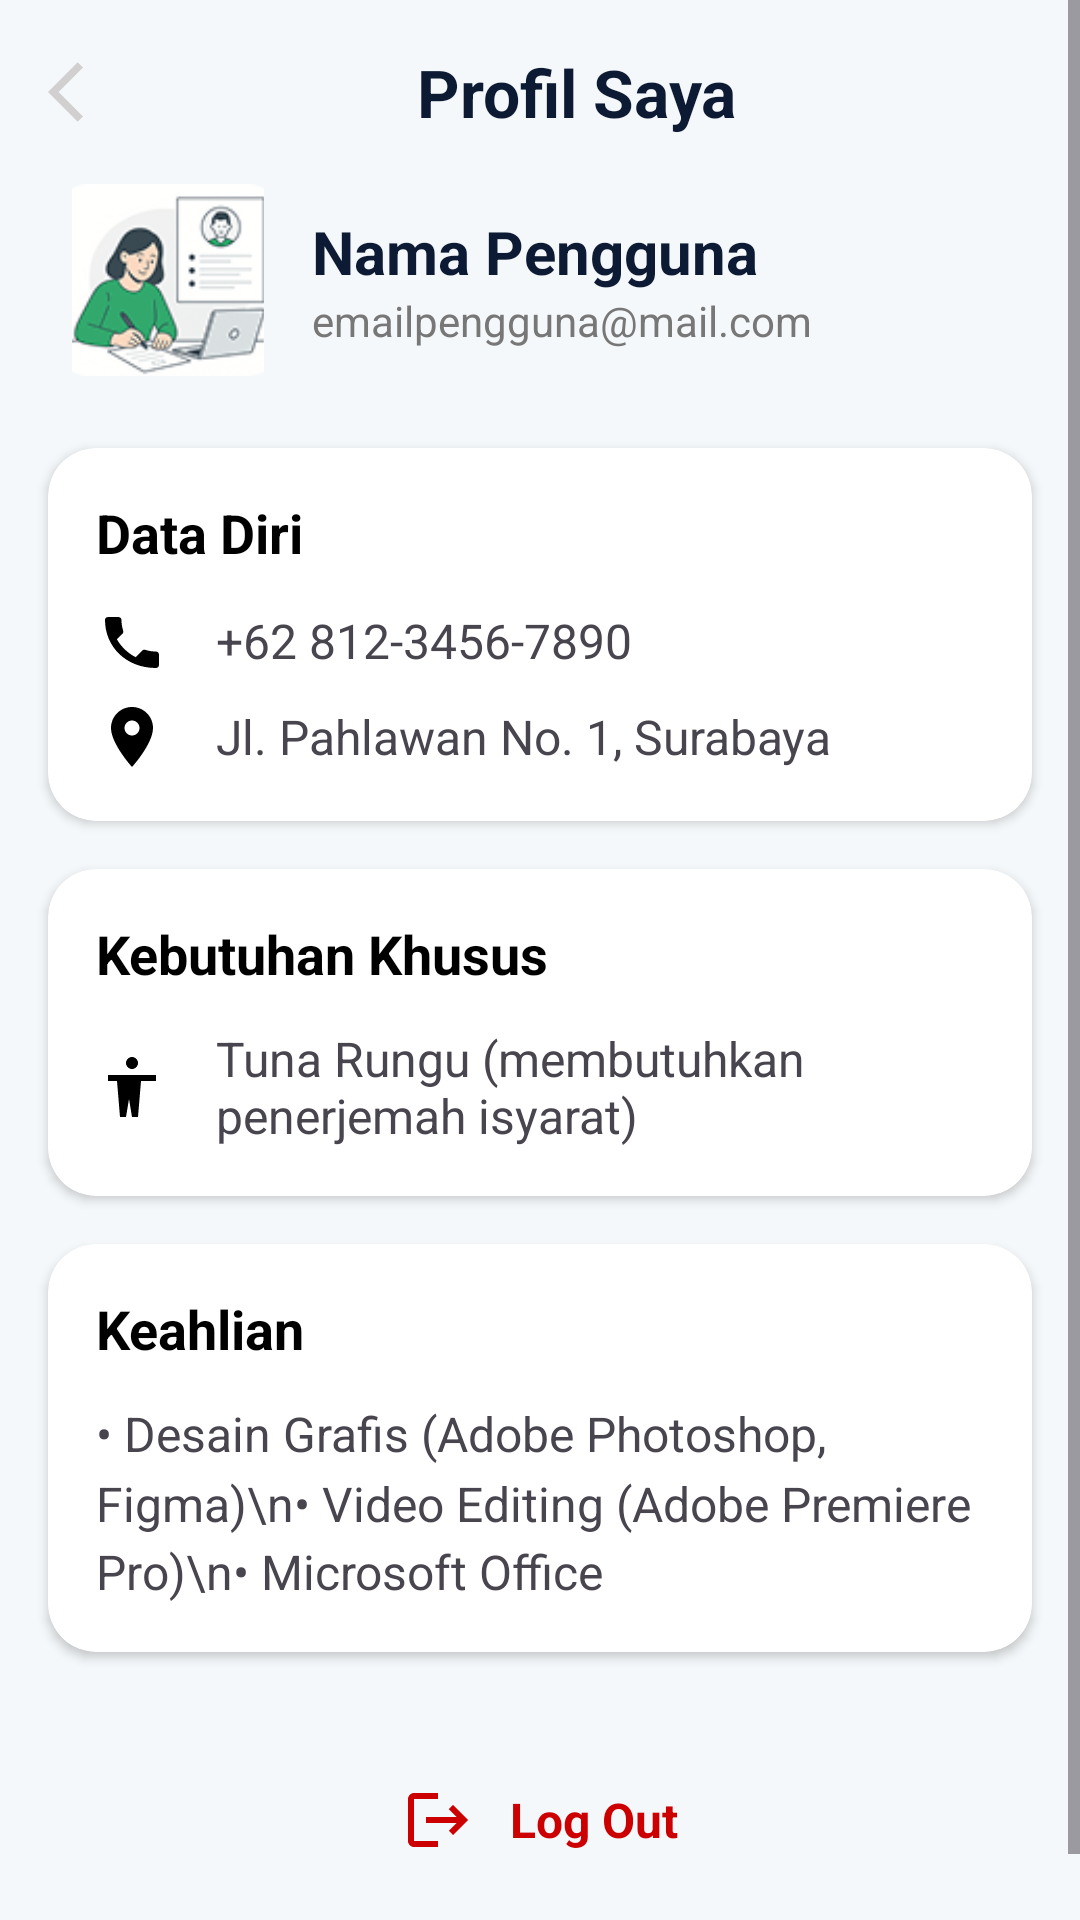

Locate icon controls on the screen. Image size 1080 × 1920, boxes as (left=x1, top=y1, right=x2, bottom=y2).
accessibility: (left=108, top=1057, right=156, bottom=1117)
location on: (left=111, top=707, right=153, bottom=767)
phone: (left=105, top=617, right=159, bottom=668)
Tombol Kembali: (left=49, top=63, right=83, bottom=121)
